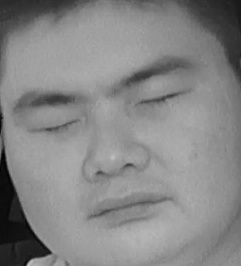blink: (134, 84, 189, 120), (31, 110, 86, 144)
mouth: (83, 184, 176, 230)
